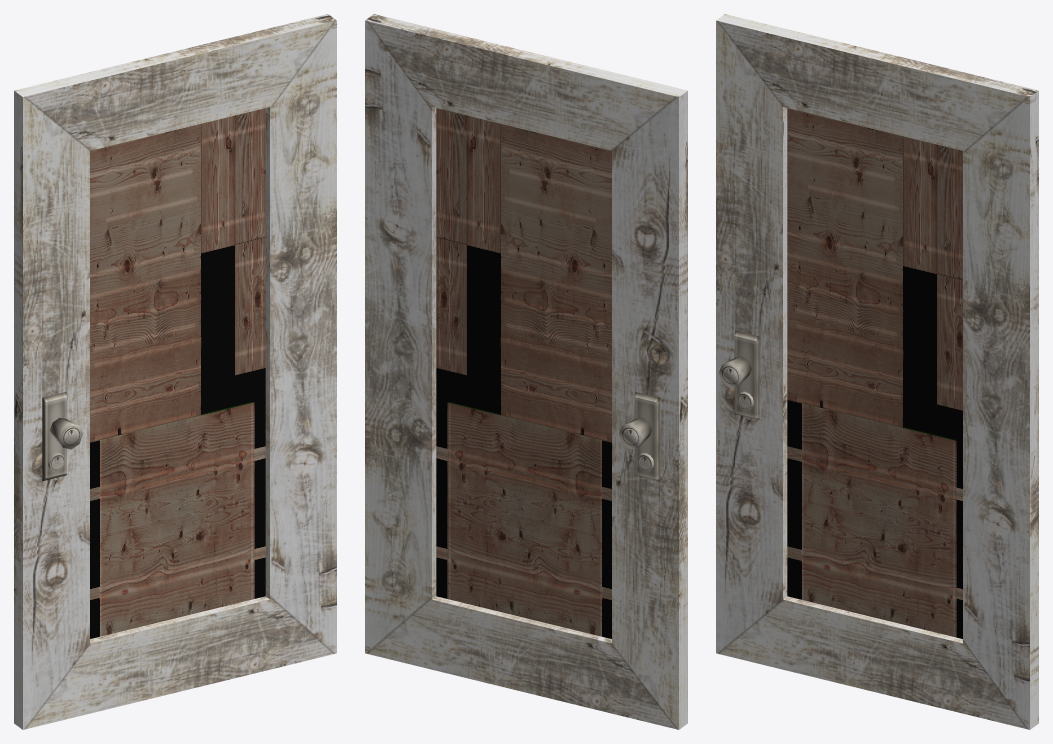
Rendered from doorGlass.FBX.
3 views of the same model, side by side, from view 1: azimuth 30°, elevation 25°; view 2: azimuth 150°, elevation 25°; view 3: azimuth 330°, elevation 25° (orthographic).
Parts seen in each view (by area): view 1: doorGlass; view 2: doorGlass; view 3: doorGlass.
Boxes of the visible parts, x1,y1,x2,y2 form: doorGlass: (14, 14, 336, 729); doorGlass: (365, 14, 687, 729); doorGlass: (716, 14, 1038, 729).
Size of the model in its own units: 32.82 by 63.19 by 7.82.
